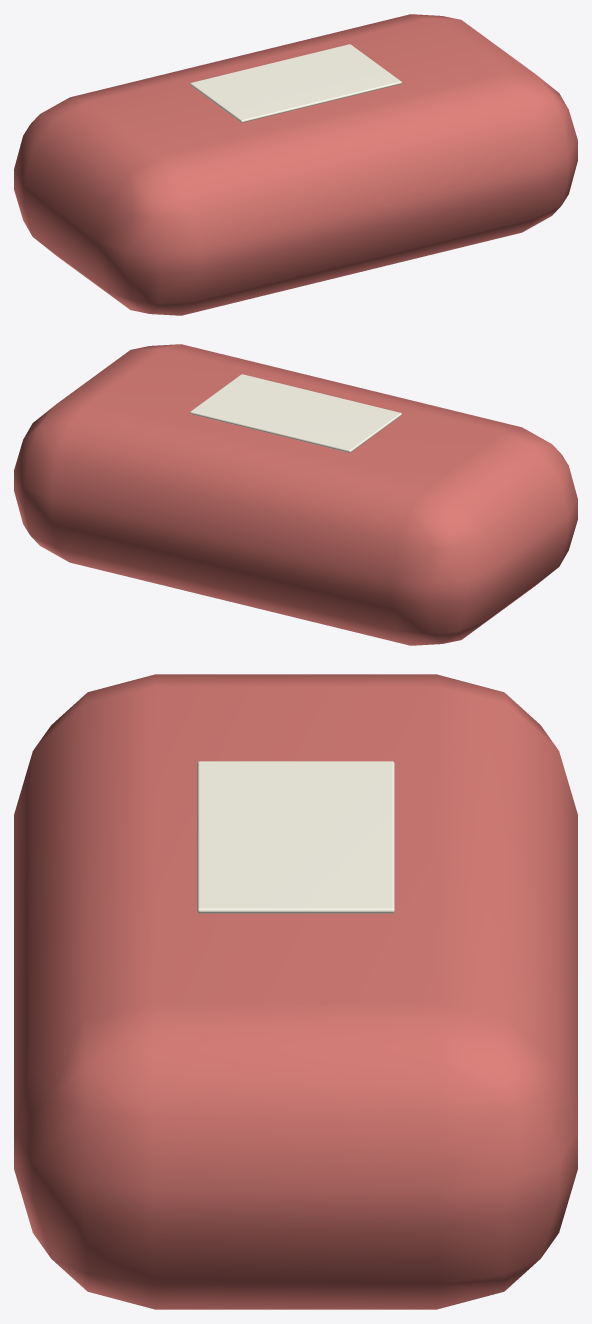
Rendered from bathroomSoapRed.glb.
The picture shows the model from 3 angles, top to bottom: view 1: azimuth 30°, elevation 25°; view 2: azimuth 150°, elevation 25°; view 3: azimuth 270°, elevation 25°; orthographic projection. The views are drawn at different scales.
Parts seen in each view (by area): view 1: Soap, Soap stamp; view 2: Soap, Soap stamp; view 3: Soap, Soap stamp.
Part boxes in pixels (left/top/right/bottom): Soap: left=14, top=14, right=577, bottom=315; Soap stamp: left=190, top=44, right=401, bottom=122; Soap: left=14, top=344, right=577, bottom=645; Soap stamp: left=190, top=374, right=401, bottom=452; Soap: left=14, top=674, right=577, bottom=1309; Soap stamp: left=197, top=761, right=394, bottom=913.
Bounding box in the file's own units: 0.73 × 0.238 × 0.4.
